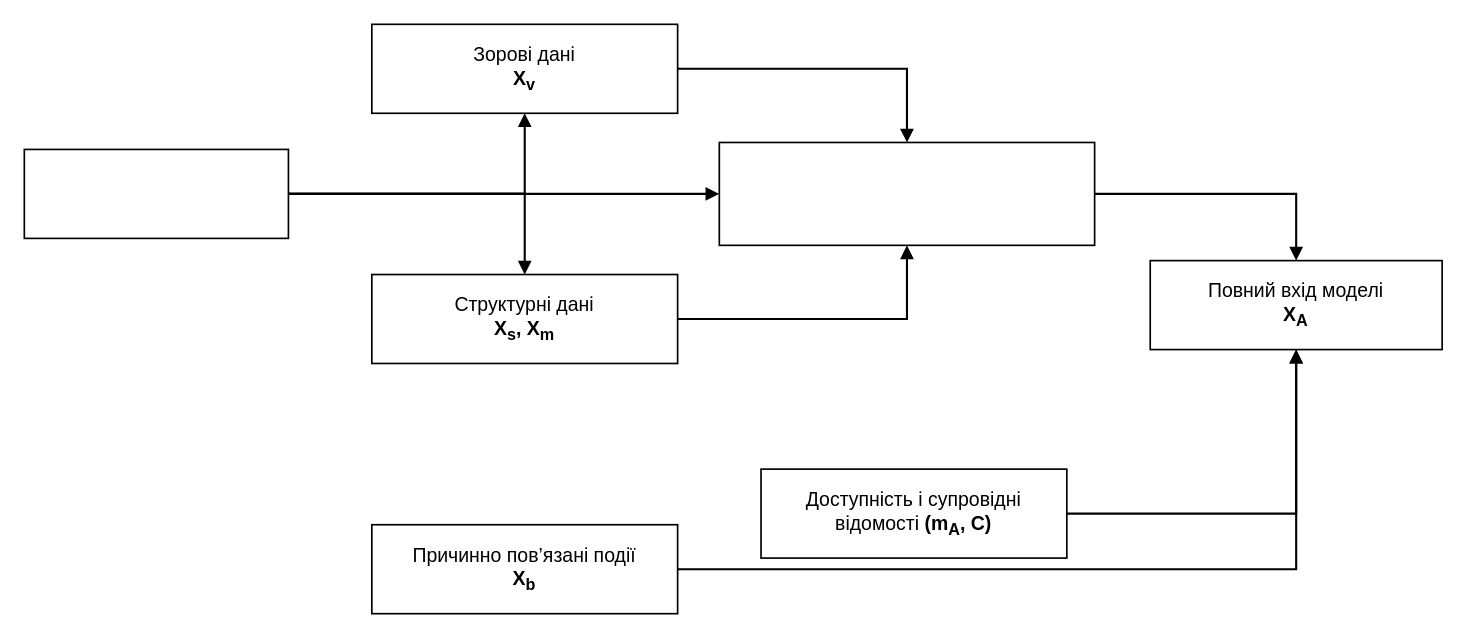
Image size: 1468x639. Some labels were removed from this diagram. The centre of each missing label's shape, as x and y in pixels:
"Незмінний об’єкт X mm" belongs at point 156,193.
"Статичні дані після попереднього опрацювання X c =⟨X mm ,X v ,X s ,X m ⟩" belongs at point 906,193.
